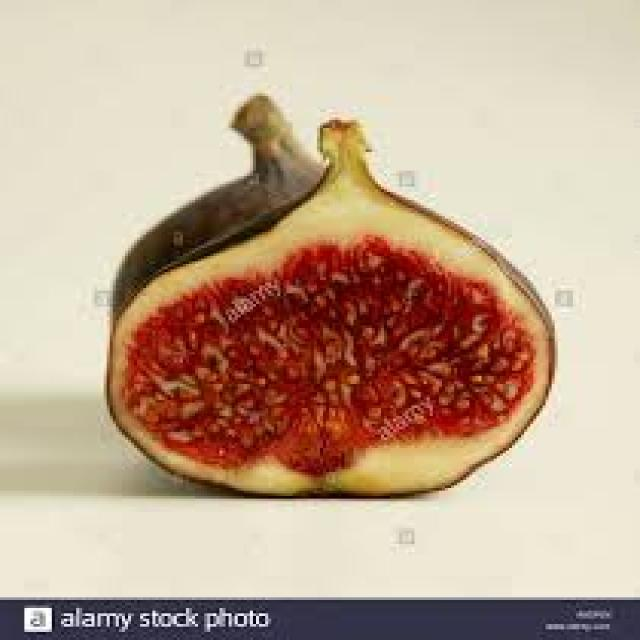Organik: (116, 98, 554, 498)
